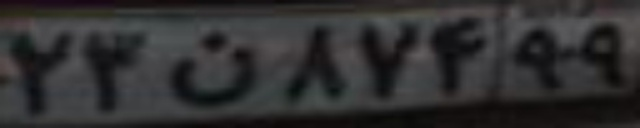2: (9, 29, 72, 117)
3: (81, 29, 147, 113)
4: (428, 17, 488, 94)
7: (356, 21, 417, 98)
8: (284, 25, 346, 102)
9: (511, 27, 563, 89), (579, 23, 624, 87)
non: (168, 29, 255, 106)
